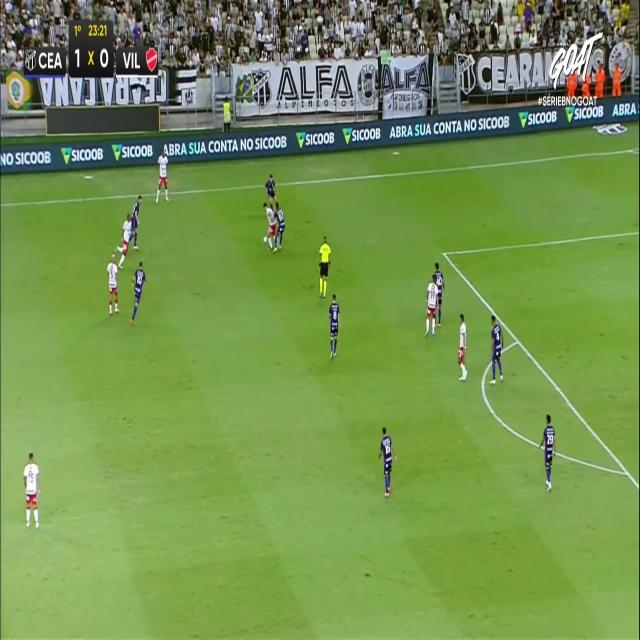ball: (263, 235, 268, 243)
player: (23, 451, 40, 530), (539, 413, 556, 490), (378, 426, 396, 497), (114, 211, 135, 268), (128, 191, 144, 252), (263, 201, 281, 255), (131, 260, 146, 324), (490, 314, 503, 382), (264, 172, 281, 219), (156, 145, 170, 202), (457, 311, 468, 381), (107, 254, 119, 314), (425, 275, 437, 335), (328, 293, 339, 358), (273, 201, 285, 251)
referee: (318, 235, 330, 298)
